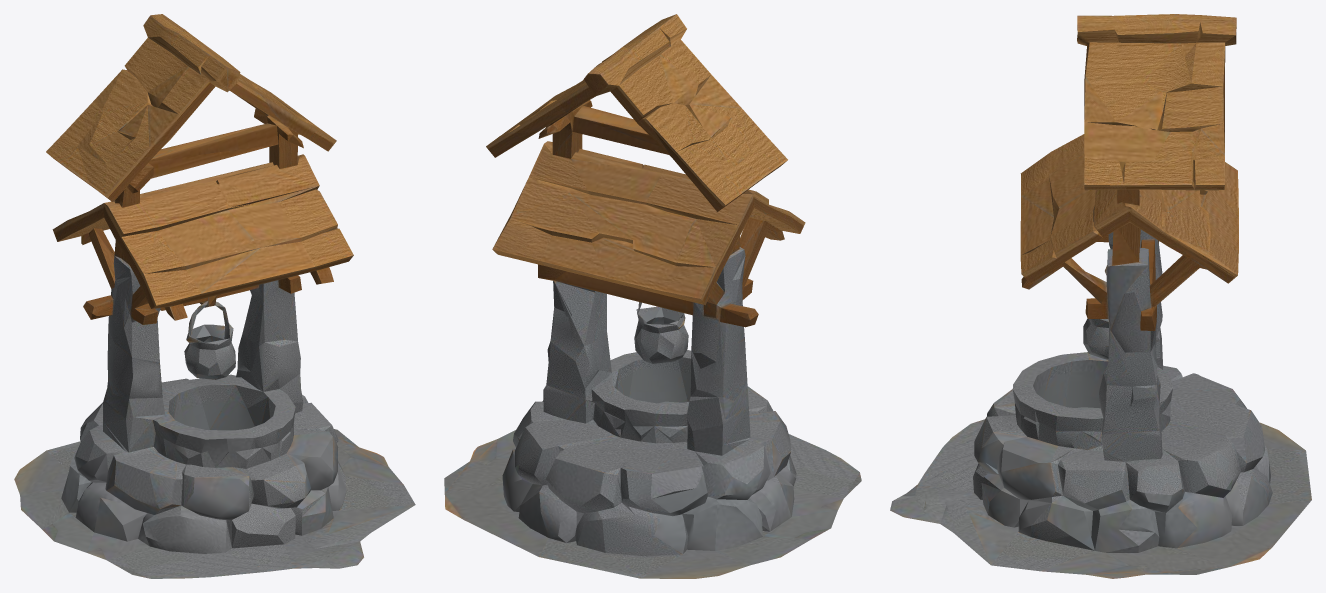
The model's file is well.glb.
The picture shows the model from 3 angles, left to right: view 1: azimuth 30°, elevation 25°; view 2: azimuth 150°, elevation 25°; view 3: azimuth 270°, elevation 25°; orthographic projection. The views are drawn at different scales.
Bounding box in the file's own units: 1.49 × 1.9 × 1.53.
Materials: 1 (1 with a texture image).
